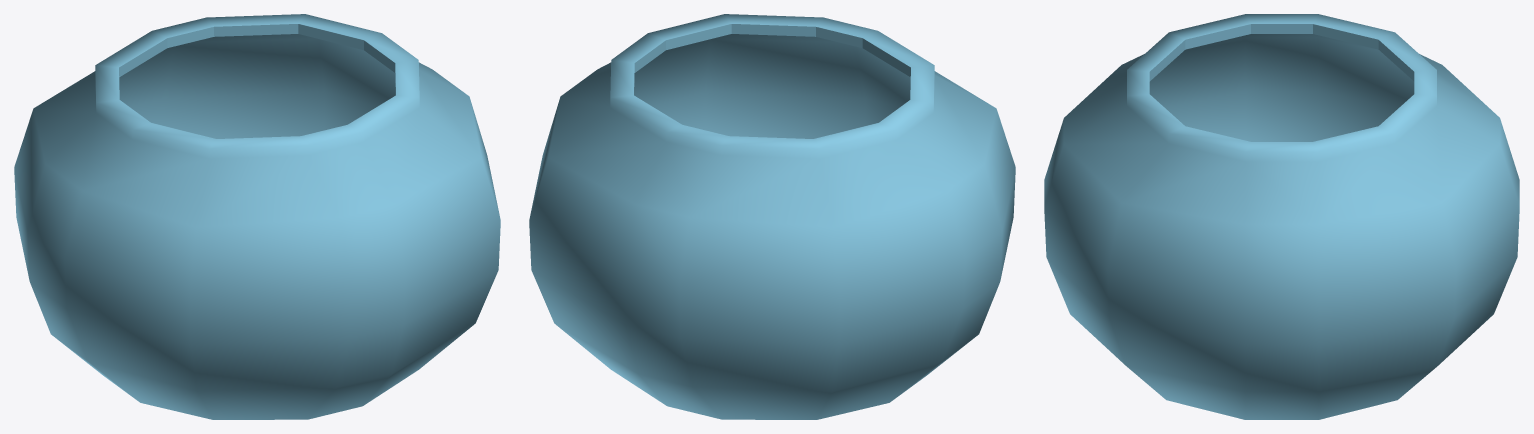
The model's file is Fishbow.fbx.
3 views of the same model, side by side, from view 1: azimuth 30°, elevation 25°; view 2: azimuth 150°, elevation 25°; view 3: azimuth 270°, elevation 25° (orthographic).
Visible parts, largest first — view 1: Fishbow; view 2: Fishbow; view 3: Fishbow.
Boxes of the visible parts, box(x1,y1,x2,y2) form: Fishbow: box(14, 14, 500, 419); Fishbow: box(529, 14, 1015, 419); Fishbow: box(1044, 14, 1519, 419).
Bounding box in the file's own units: 109 × 72.97 × 107.
